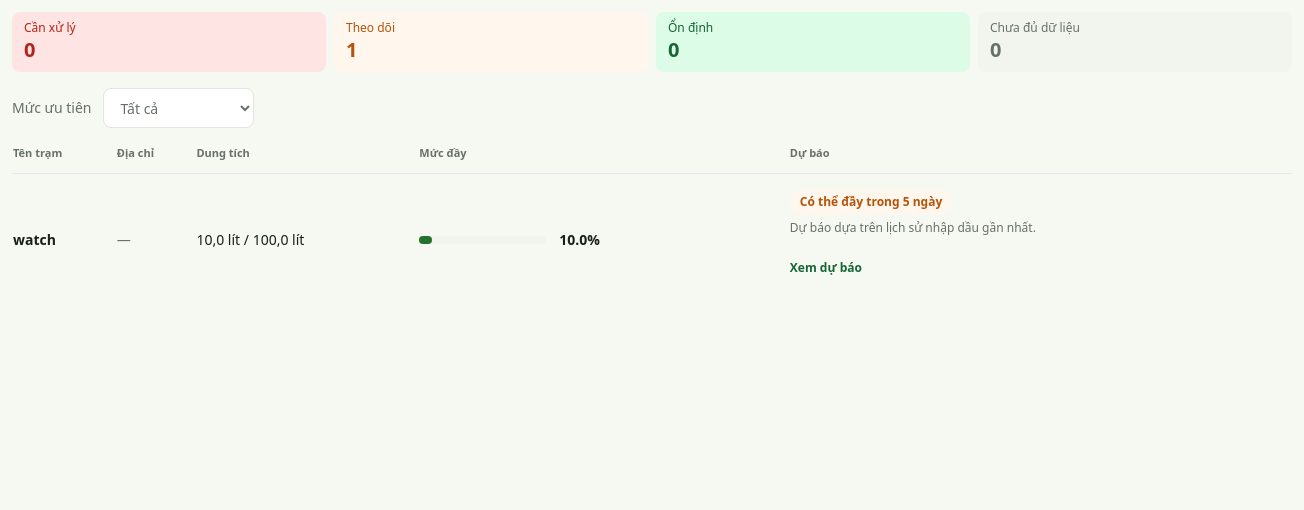
mở và đóng chi tiết dự báo của một trạm
What coordinates should you click on to do the following:
click the button "Xem dự báo"
I would click on:
 (826, 268)
Its box is [790, 246, 862, 290].
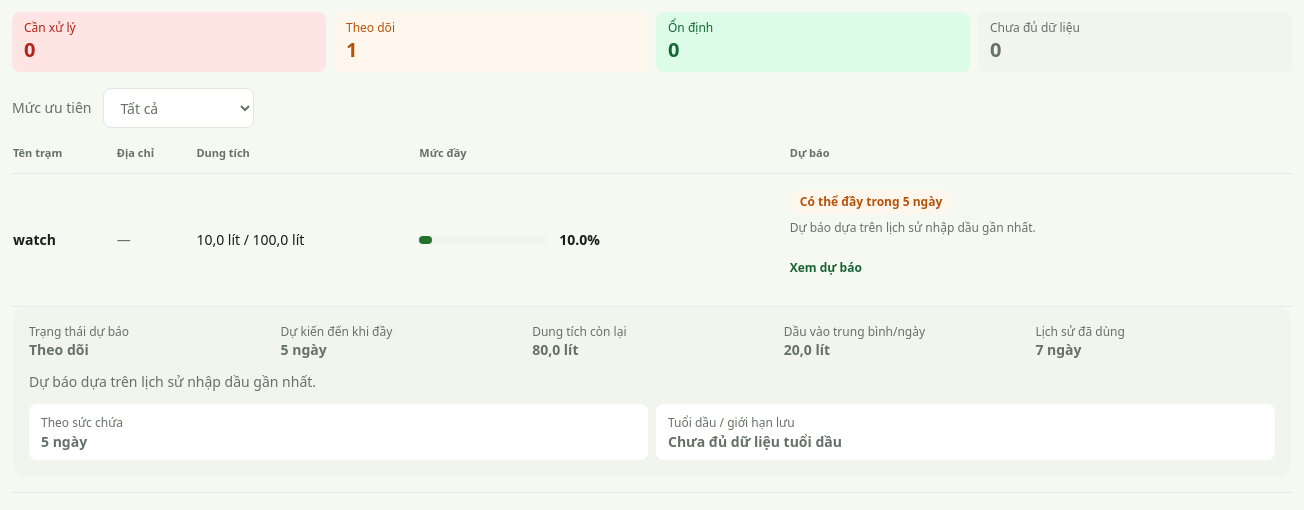
Now the button "Xem dự báo" is expanded
Now the row with test id "station-forecast-details-watch" is shown, box [12, 306, 1292, 492]
What coordinates should you click on to do the following:
click the button "Xem dự báo"
I would click on:
 (826, 268)
Its box is [790, 246, 862, 290].
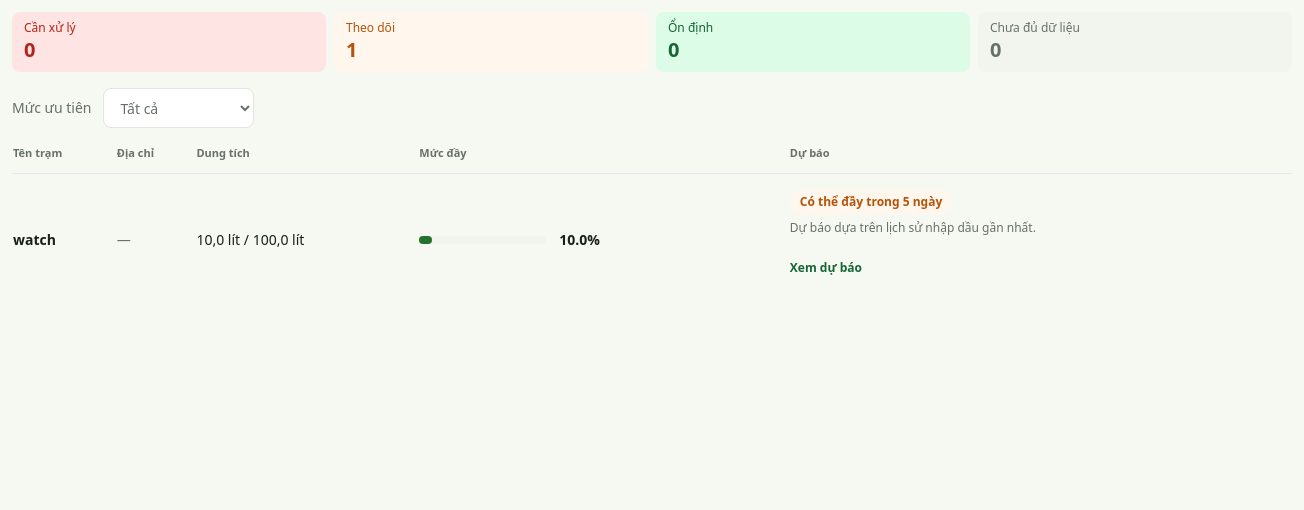
Now the button "Xem dự báo" is collapsed, box [790, 246, 862, 290]
Now the row with test id "station-forecast-details-watch" is gone
